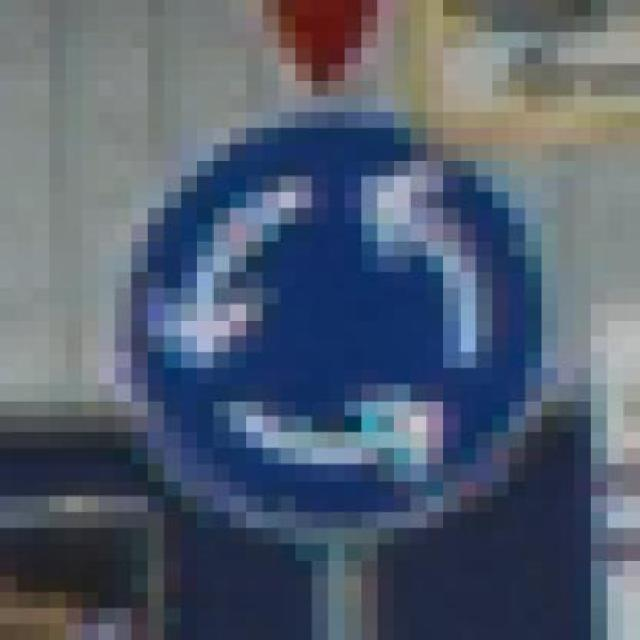Round-About: (82, 80, 575, 560)
